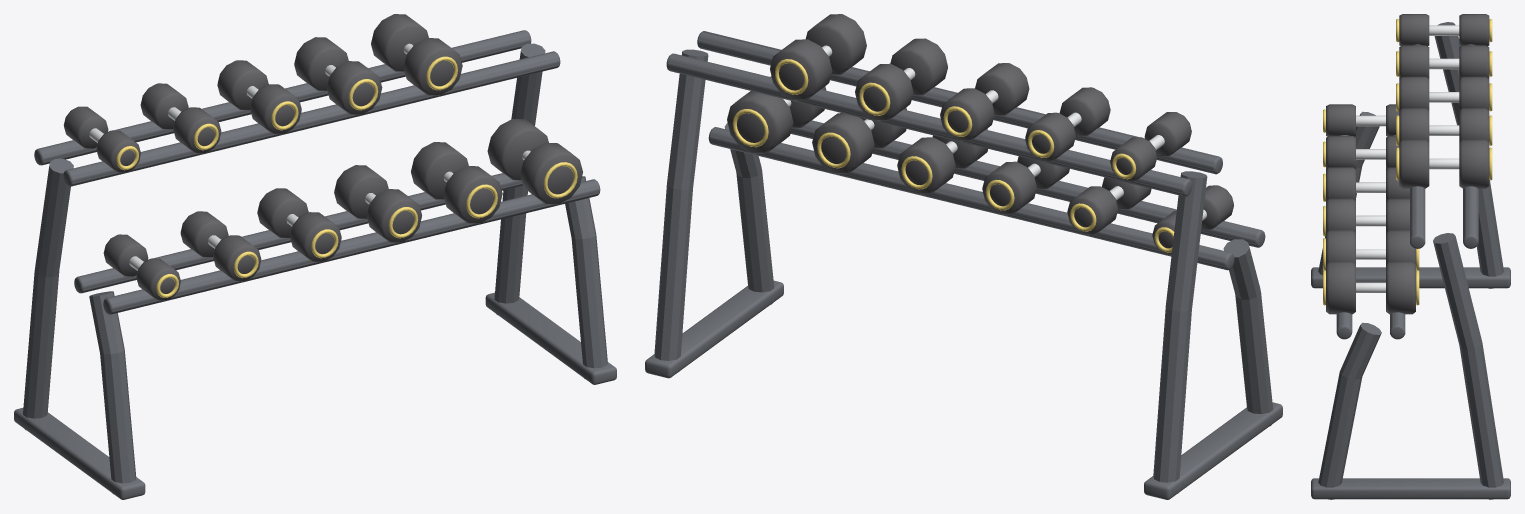
File: gym_dumbbells.glb
3 renders of one model, left to right at view 1: azimuth 30°, elevation 25°; view 2: azimuth 150°, elevation 25°; view 3: azimuth 270°, elevation 25°, orthographic. The views are drawn at different scales.
Parts seen in each view (by area): view 1: gym_dumbbells; view 2: gym_dumbbells; view 3: gym_dumbbells.
Boxes of the visible parts, bbox=[...] form: gym_dumbbells: bbox=[14, 14, 616, 499]; gym_dumbbells: bbox=[645, 14, 1282, 499]; gym_dumbbells: bbox=[1311, 14, 1510, 499].
Bounding box in the file's own units: 1.58 × 1 × 0.6.
